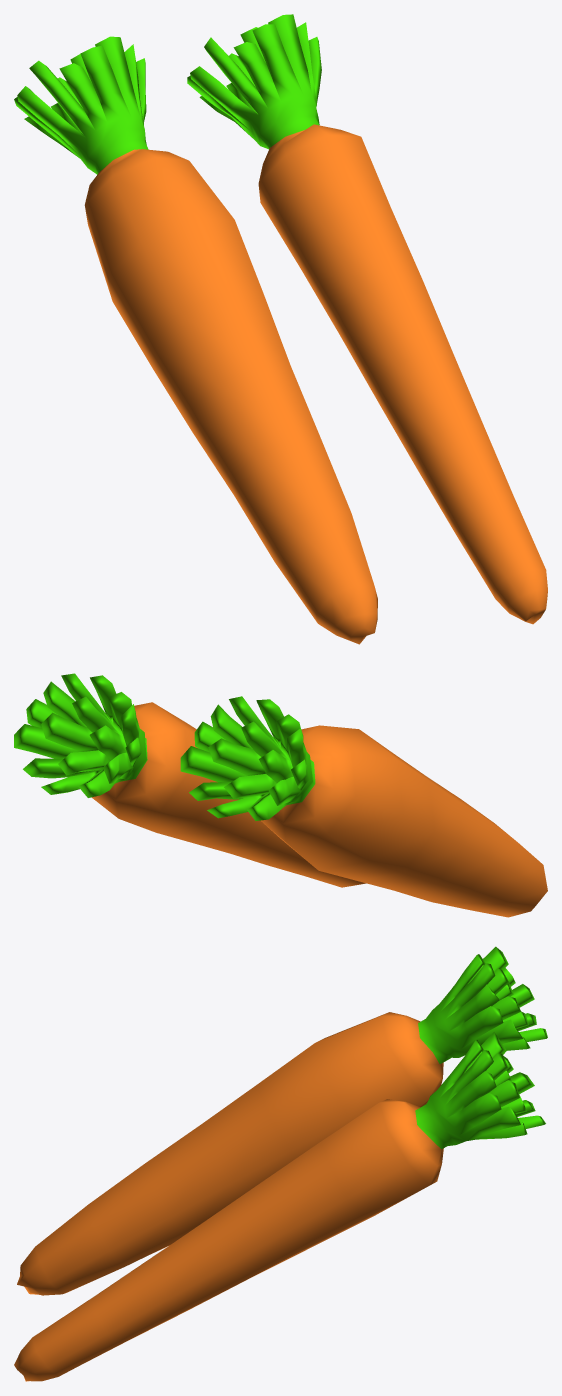
File: wortel.fbx
The picture shows the model from 3 angles, top to bottom: view 1: azimuth 30°, elevation 25°; view 2: azimuth 150°, elevation 25°; view 3: azimuth 270°, elevation 25°; orthographic projection. The views are drawn at different scales.
Parts seen in each view (by area): view 1: Wortel.001, Wortel; view 2: Wortel.001, Wortel; view 3: Wortel.001, Wortel.
Part boxes in pixels (bbox=[...]): Wortel.001: bbox=[14, 36, 377, 644]; Wortel: bbox=[187, 14, 547, 624]; Wortel.001: bbox=[180, 696, 547, 917]; Wortel: bbox=[14, 673, 366, 887]; Wortel.001: bbox=[17, 946, 547, 1295]; Wortel: bbox=[14, 1032, 545, 1381].
Bounding box in the file's own units: 112 × 151 × 205.
